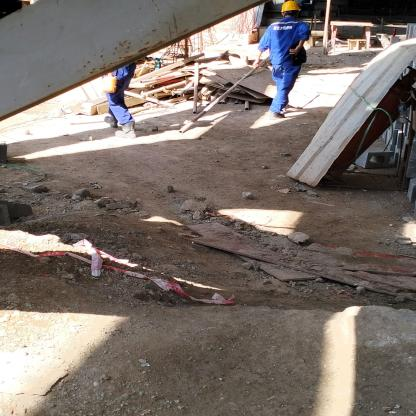bota: (114, 121, 138, 138), (268, 109, 286, 120), (104, 114, 118, 127)
